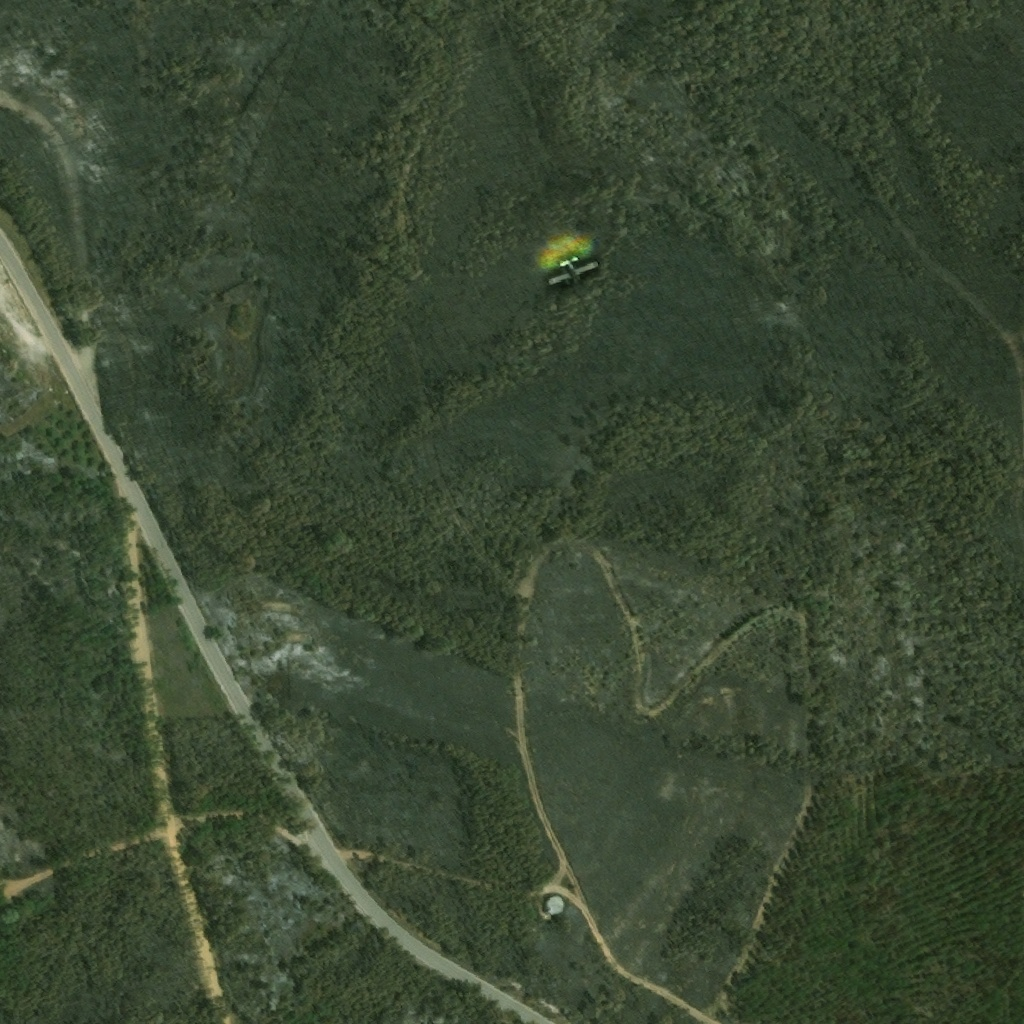0 no-damage: (545, 896, 563, 915)
